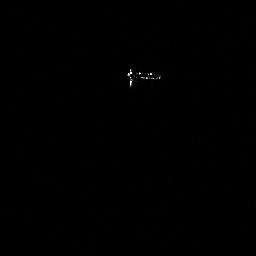ship: (120, 63, 163, 91)
